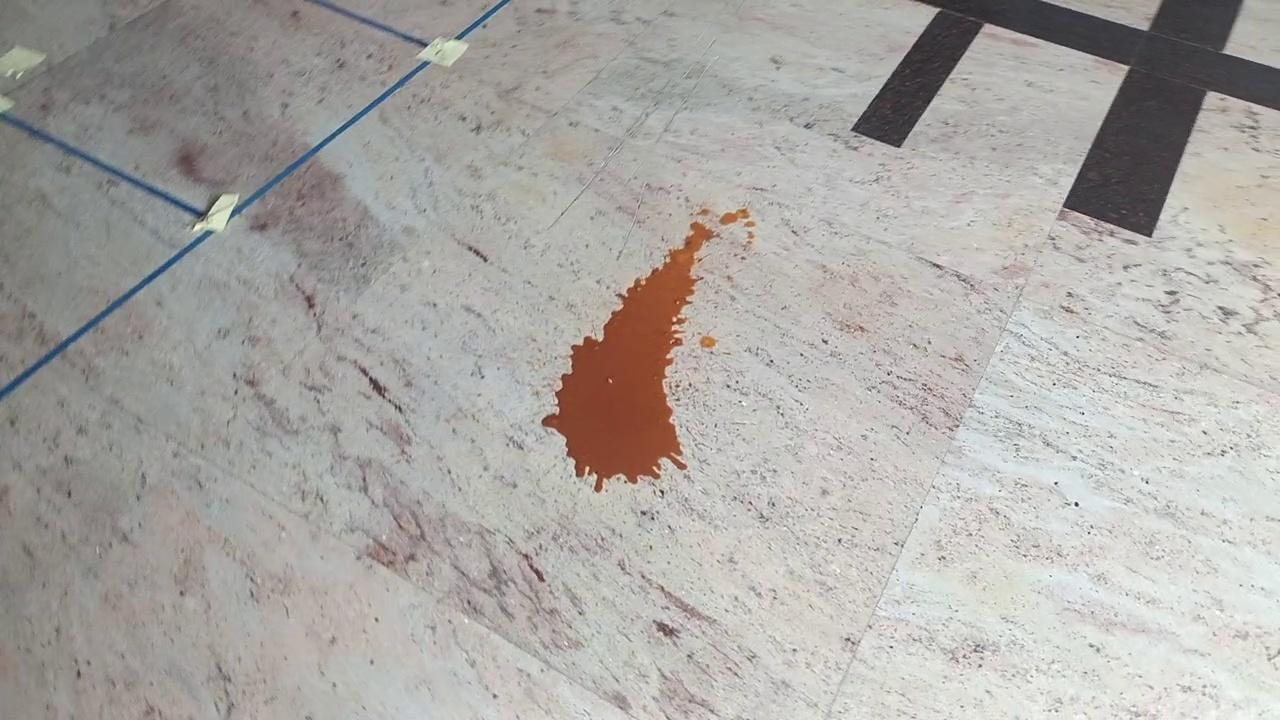dirty_floor: (544, 205, 755, 492)
